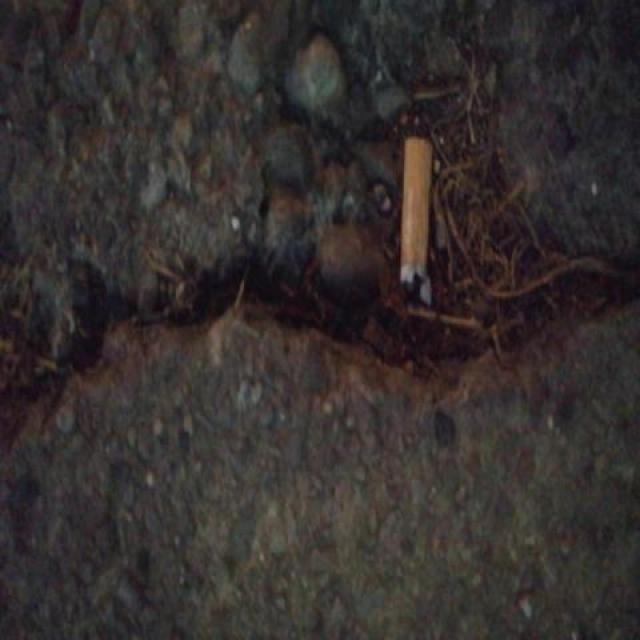non-organic waste: (396, 127, 439, 313)
